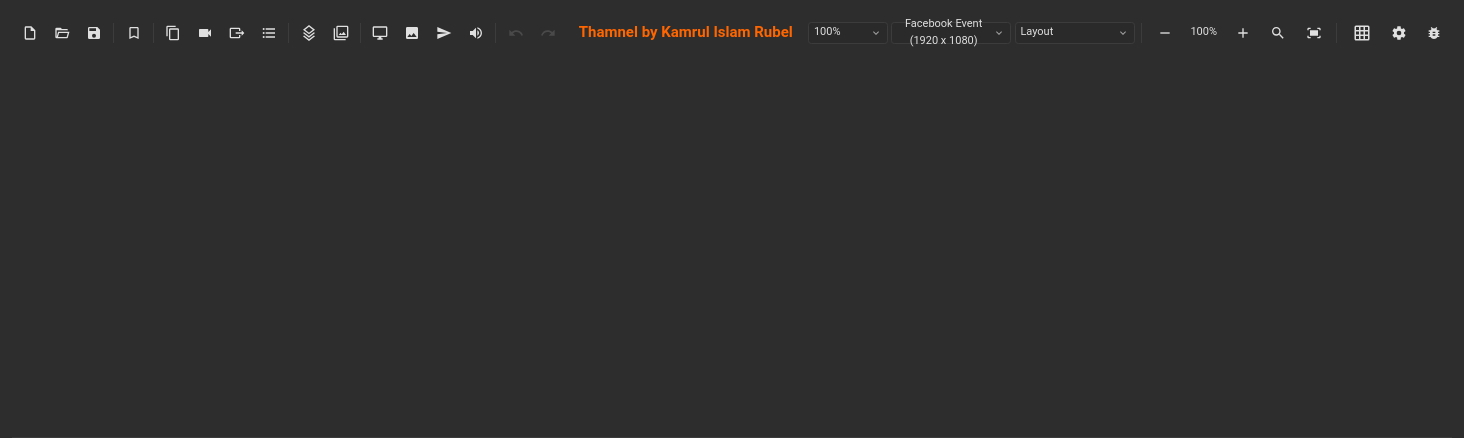
Test: TopToolbar › renders zoom controls that update zoom display
Expected: the text with test id "zoom-display" reads "100%", [1190,25,1217,38]
#  Zoom in
What coordinates should you click on to do the following:
click the button with test id "btn-zoom-in"
I would click on:
 (1243, 32)
Its box is [1227,16,1259,48].
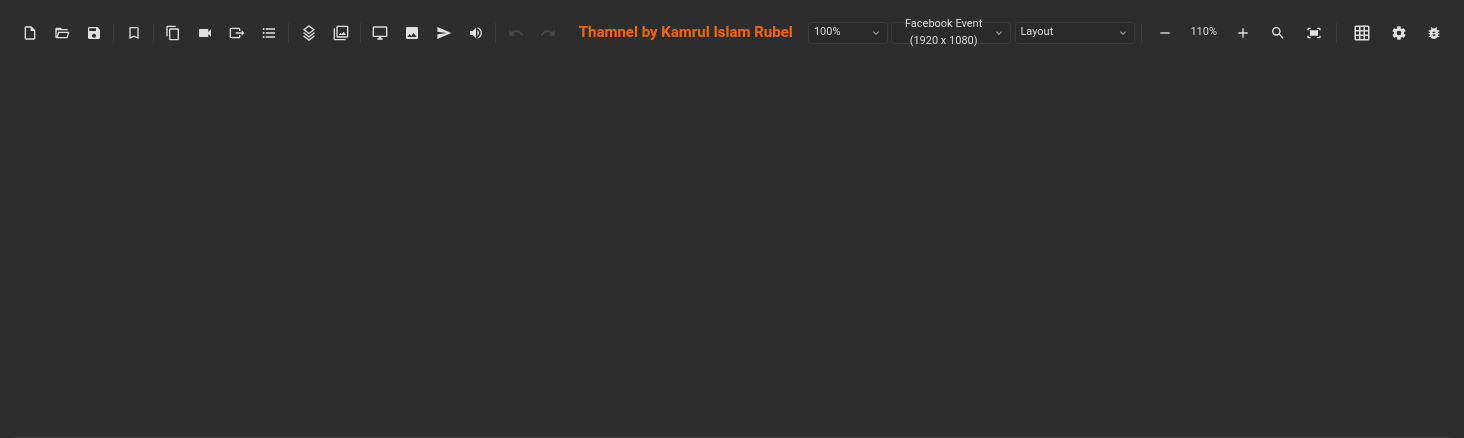
Expected: the text with test id "zoom-display" reads "110%", [1190,25,1217,38]
# Zoom out
What coordinates should you click on to do the following:
click the button with test id "btn-zoom-out"
I would click on:
 (1164, 32)
Its box is [1148,16,1180,48].
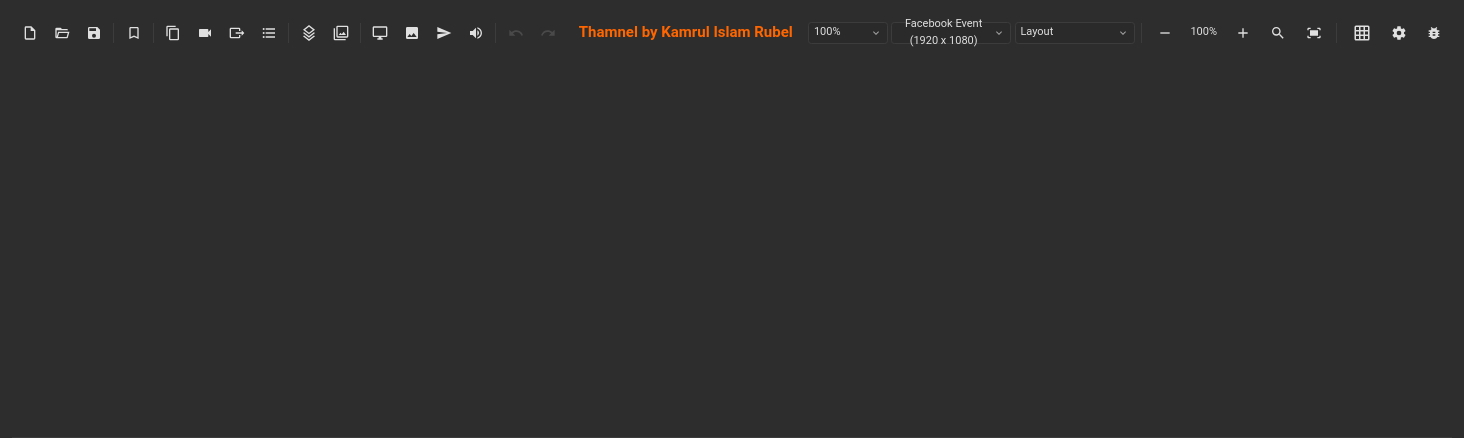
Expected: the text with test id "zoom-display" reads "100%", [1190,25,1217,38]
